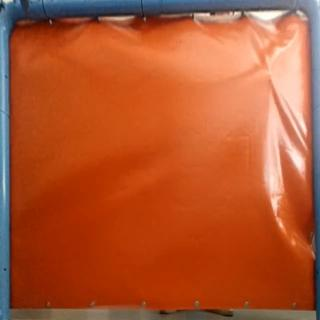Hit-hRxx: (263, 68, 279, 82)
